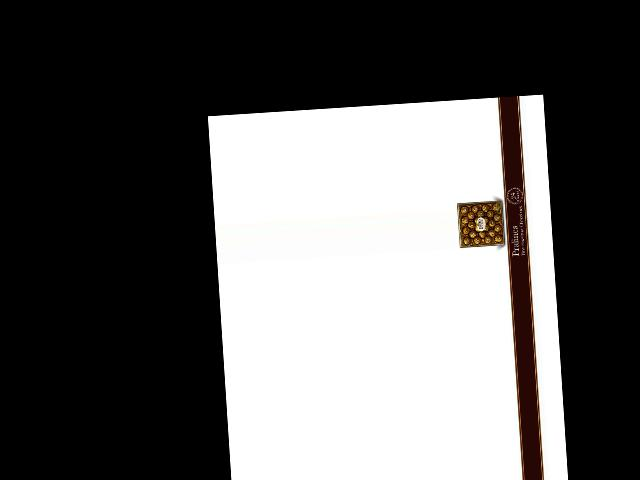chocolate: (453, 197, 507, 250)
